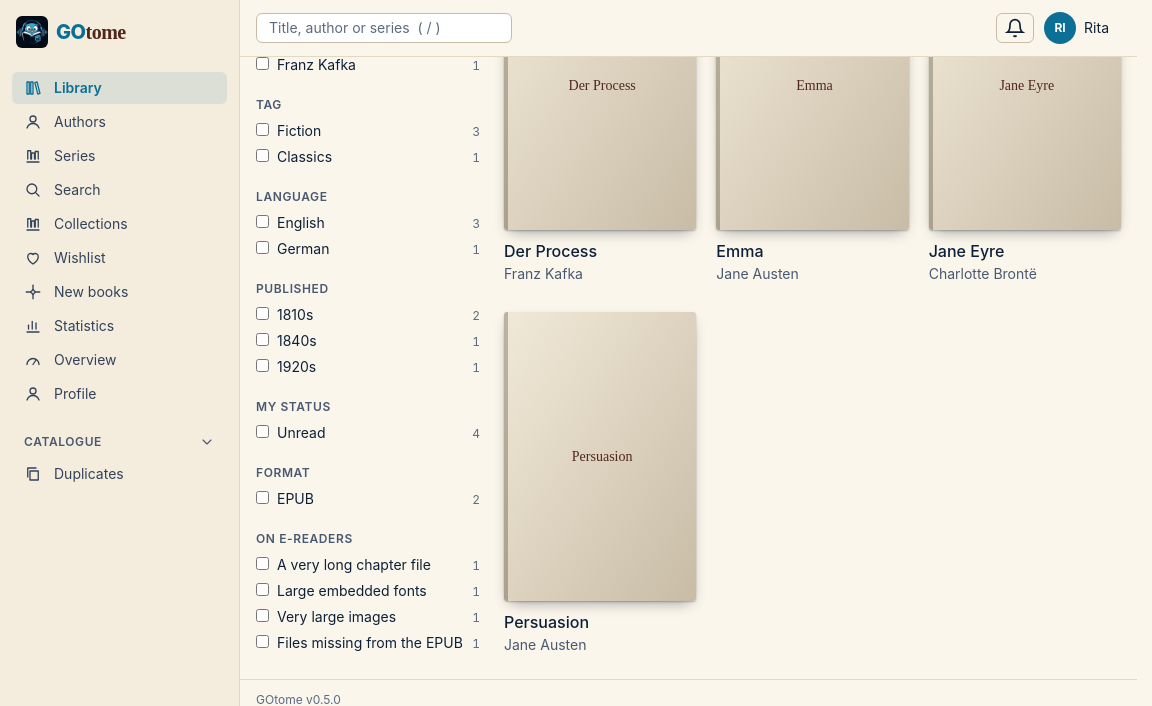
Test: filters › finds the books slow on e-readers and says why on the book's page
(page scrolled)
Step 1. Click the checkbox named "Large embedded fonts (1)" → {"x": 262, "y": 590}, box [256,583,269,596]
(page scrolled)
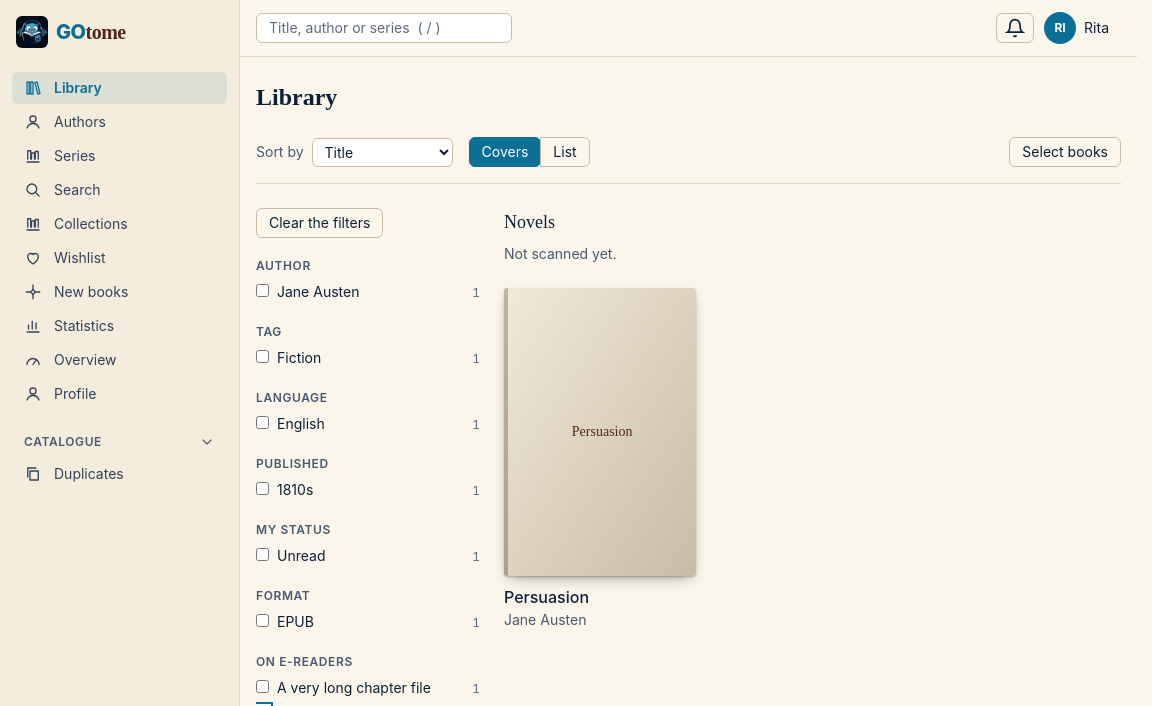
Step 2. Click the link "Persuasion Persuasion" → {"x": 600, "y": 448}, box [504,288,696,608]
(page scrolled)
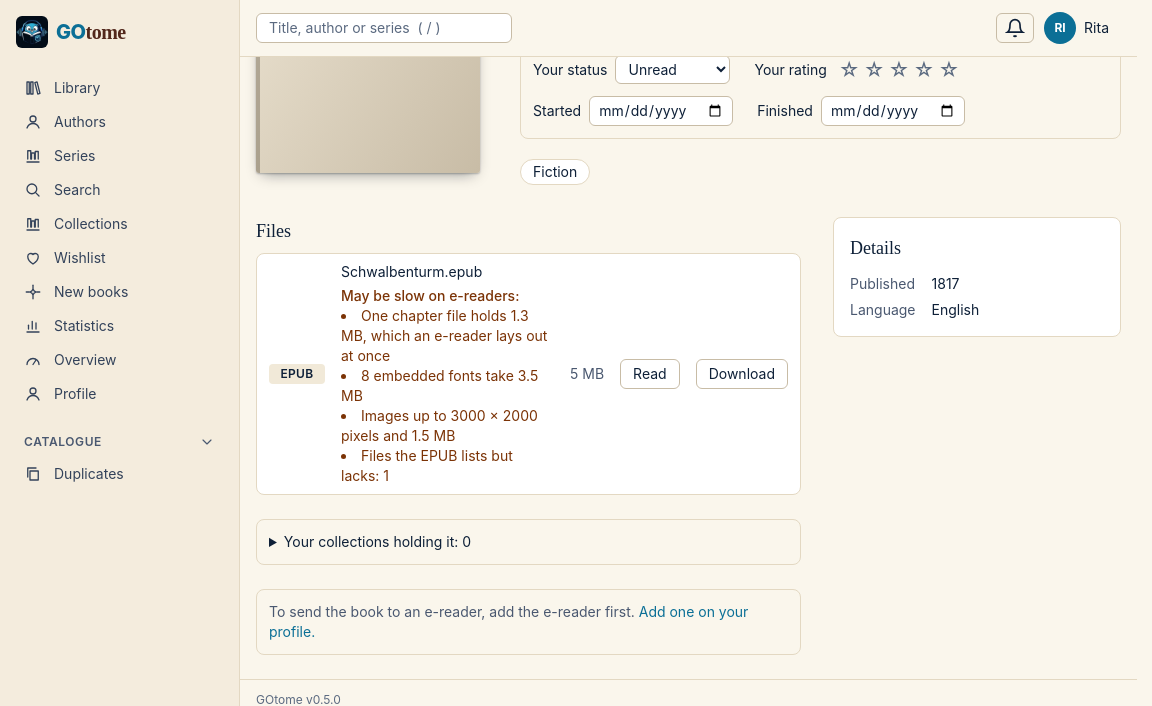
Result: the text "May be slow on e-readers:" is shown at [341,287,519,304]
Result: the list item "One chapter file holds 1.3 MB, which an e-reader lays out at once" is shown at [341,306,554,366]
Result: the list item "8 embedded fonts take 3.5 MB" is shown at [341,366,554,406]
